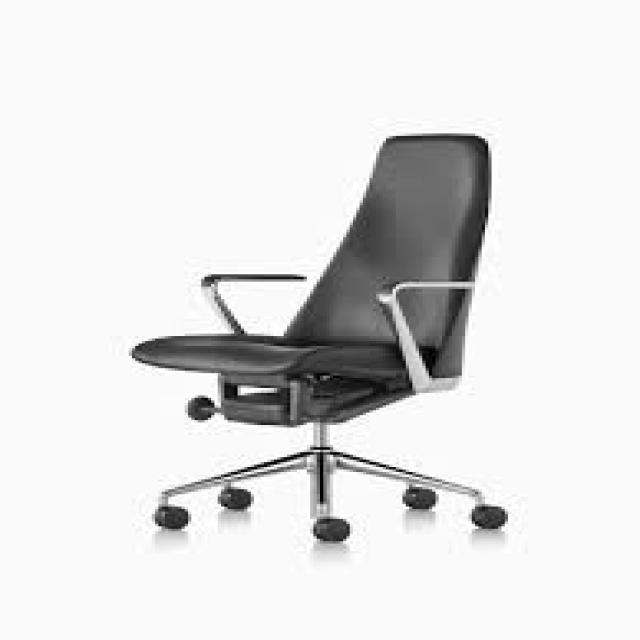chair: (105, 126, 564, 607)
